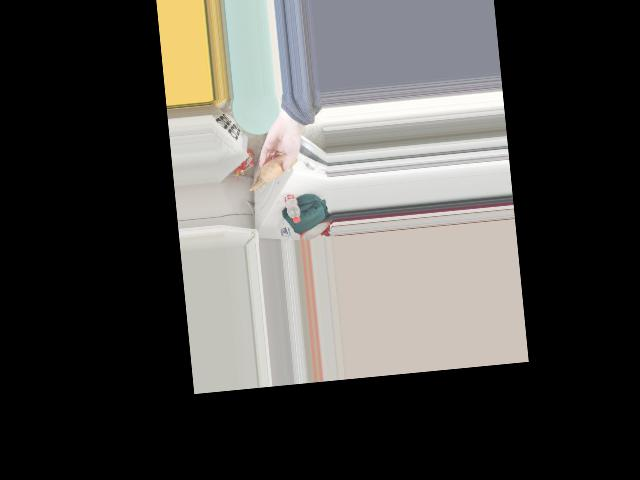sweet_potato: (259, 148, 294, 183)
